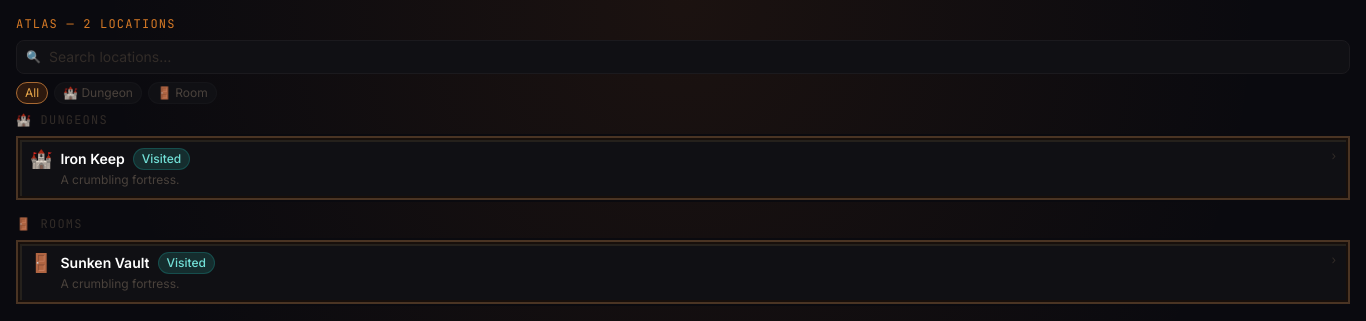
AtlasPanel — search › filters by name substring
The width and height of the screenshot is (1366, 321).
Type "iron" into the search field at [683, 57], box [16, 40, 1350, 74]
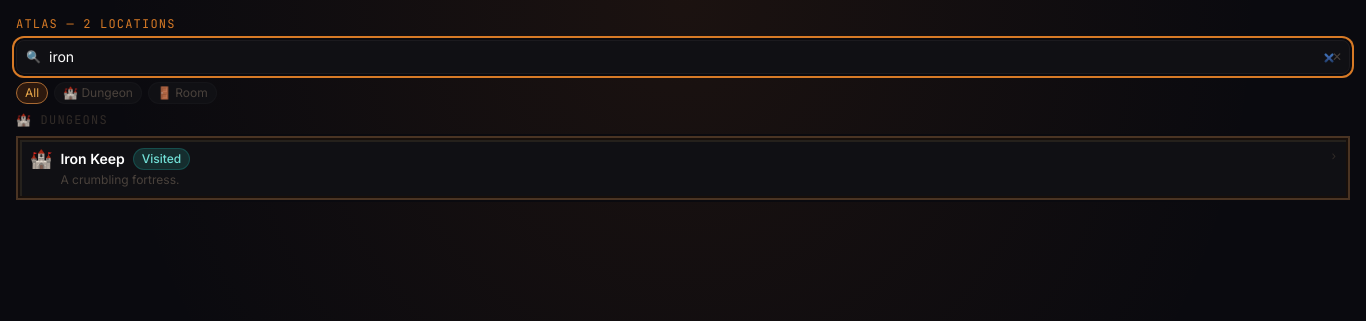
Check: the text "Iron Keep" is shown, box [60, 149, 125, 169]
Check: the button "Sunken Vault" is gone
